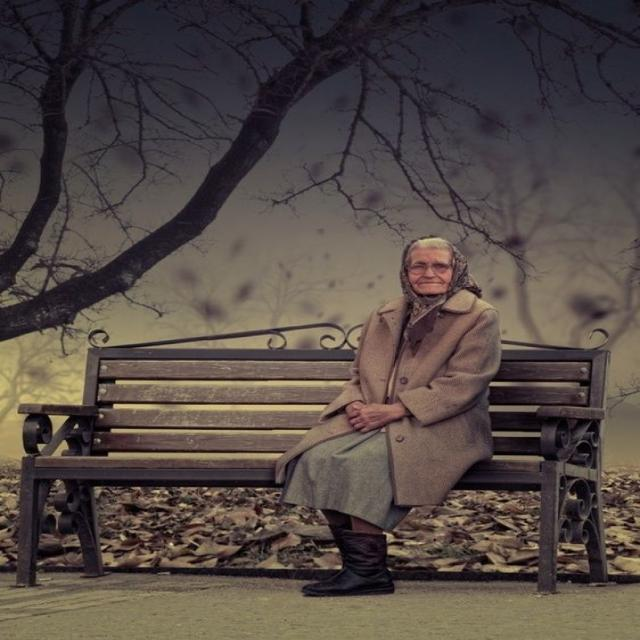idoso sentado: (278, 234, 532, 594)
